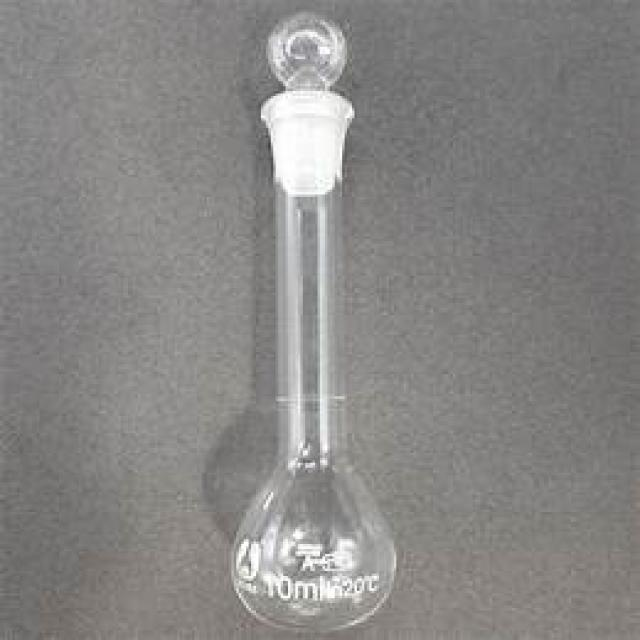Volumetric flask: (178, 25, 419, 634)
